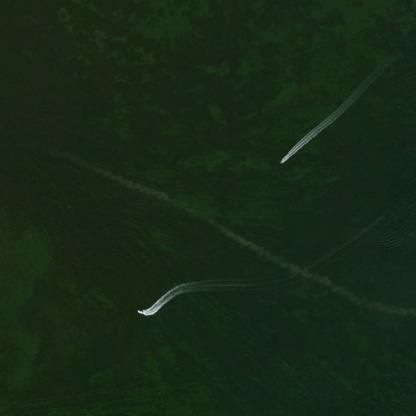ship: (271, 151, 290, 167), (130, 306, 149, 320)
